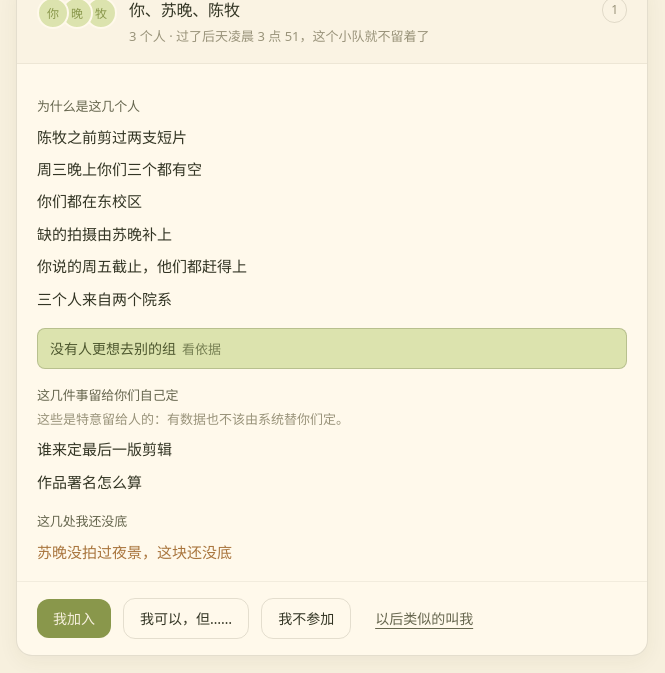
it: 三个动作 › 拒绝是一步完成的，不再问一次，也不问为什么
(page scrolled)
Step 1. Click the button "我不参加" → (306, 619), box left=261, top=598, right=351, bottom=639
(page scrolled)
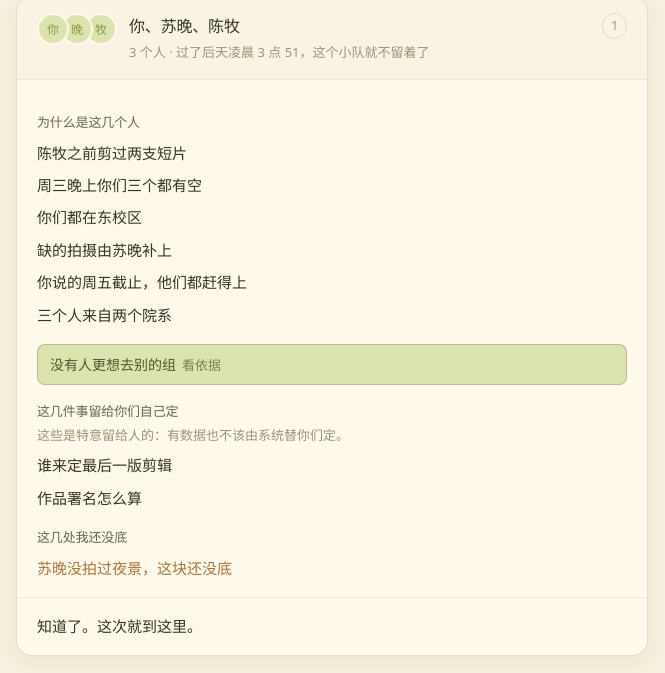
Result: the text "知道了。这次就到这里。" is shown at left=37, top=616, right=202, bottom=636
